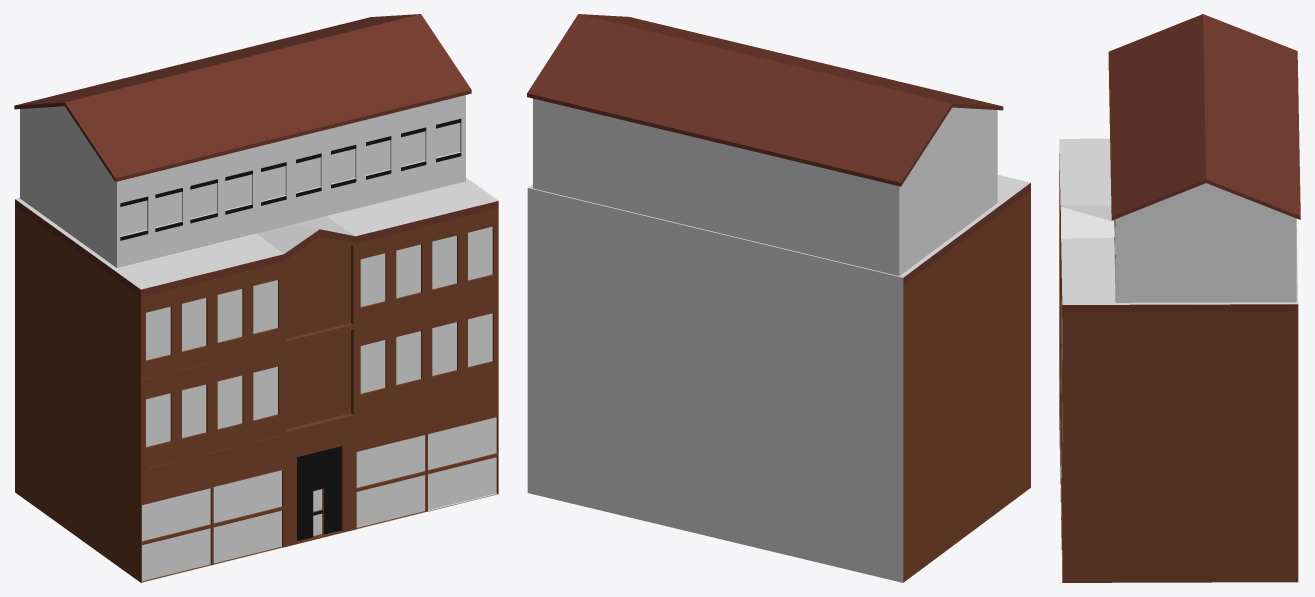
Rendered from asset.glb.
The picture shows the model from 3 angles, left to right: view 1: azimuth 30°, elevation 25°; view 2: azimuth 150°, elevation 25°; view 3: azimuth 270°, elevation 25°; orthographic projection. The views are drawn at different scales.
Parts seen in each view (by area): view 1: building_001; view 2: building_001; view 3: building_001.
Boxes of the visible parts, box(x1,y1,x2,y2) form: building_001: box(14, 14, 498, 582); building_001: box(527, 14, 1030, 582); building_001: box(1059, 14, 1300, 582).
Bounding box in the file's own units: 26.3 × 29.58 × 16.08.
